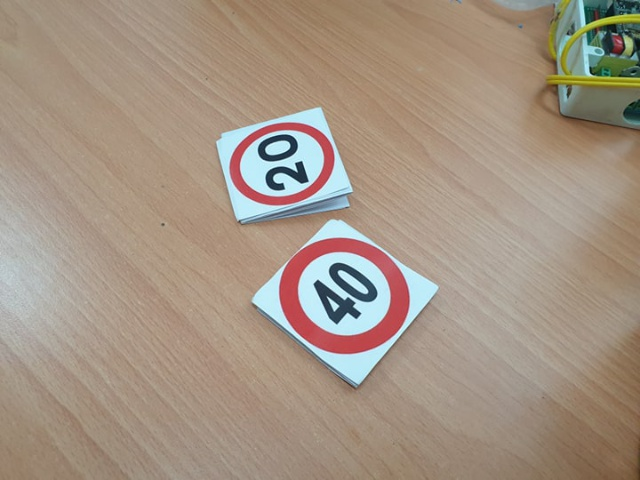Limit 20: (229, 125, 337, 205)
Limit 40: (281, 242, 413, 351)
